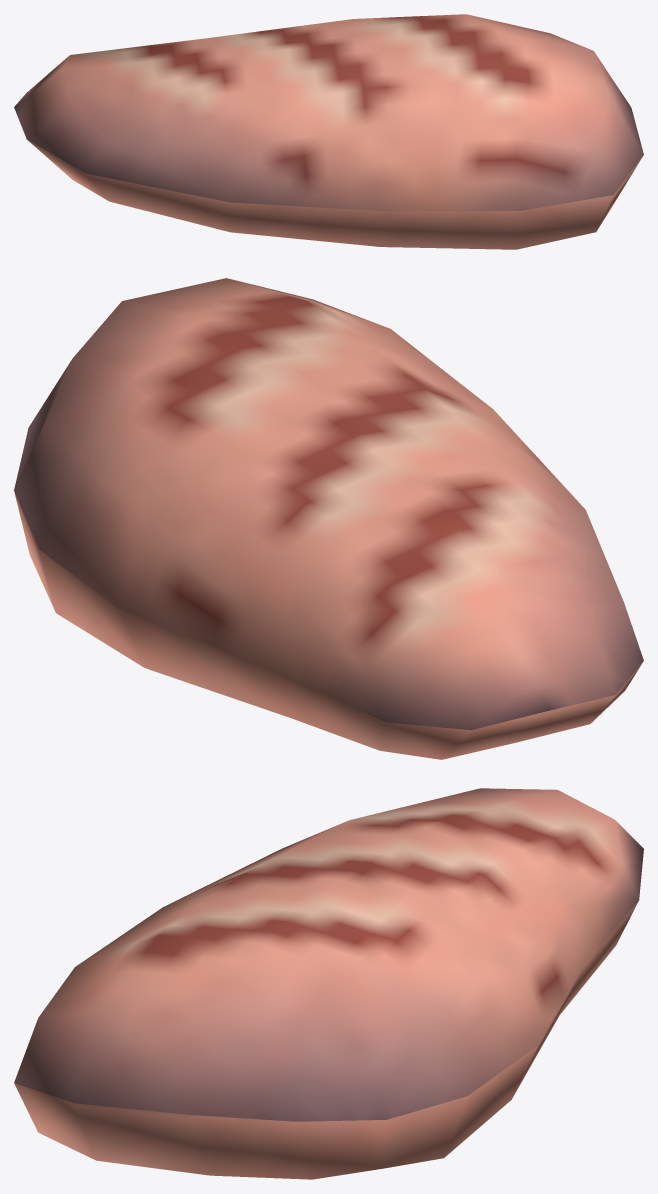
File: Chicken_Cooked.fbx
3 renders of one model, top to bottom at view 1: azimuth 30°, elevation 25°; view 2: azimuth 150°, elevation 25°; view 3: azimuth 270°, elevation 25°, orthographic. The views are drawn at different scales.
Parts seen in each view (by area): view 1: Chicken_Cooked; view 2: Chicken_Cooked; view 3: Chicken_Cooked.
Boxes of the visible parts, bbox=[...] form: Chicken_Cooked: bbox=[14, 14, 643, 249]; Chicken_Cooked: bbox=[14, 278, 643, 759]; Chicken_Cooked: bbox=[14, 788, 643, 1179].
Size of the model in its own units: 33.21 by 10.82 by 28.92.
